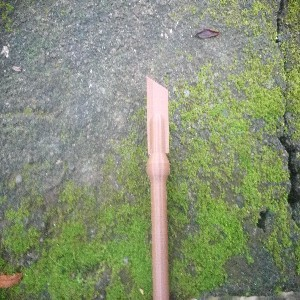cutter: (144, 75, 171, 300)
